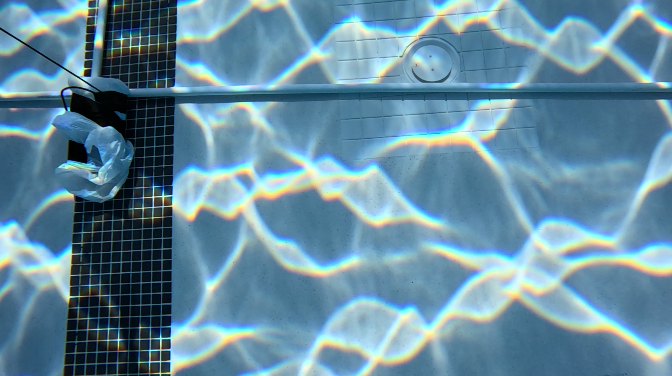sandbag: (51, 74, 135, 196)
